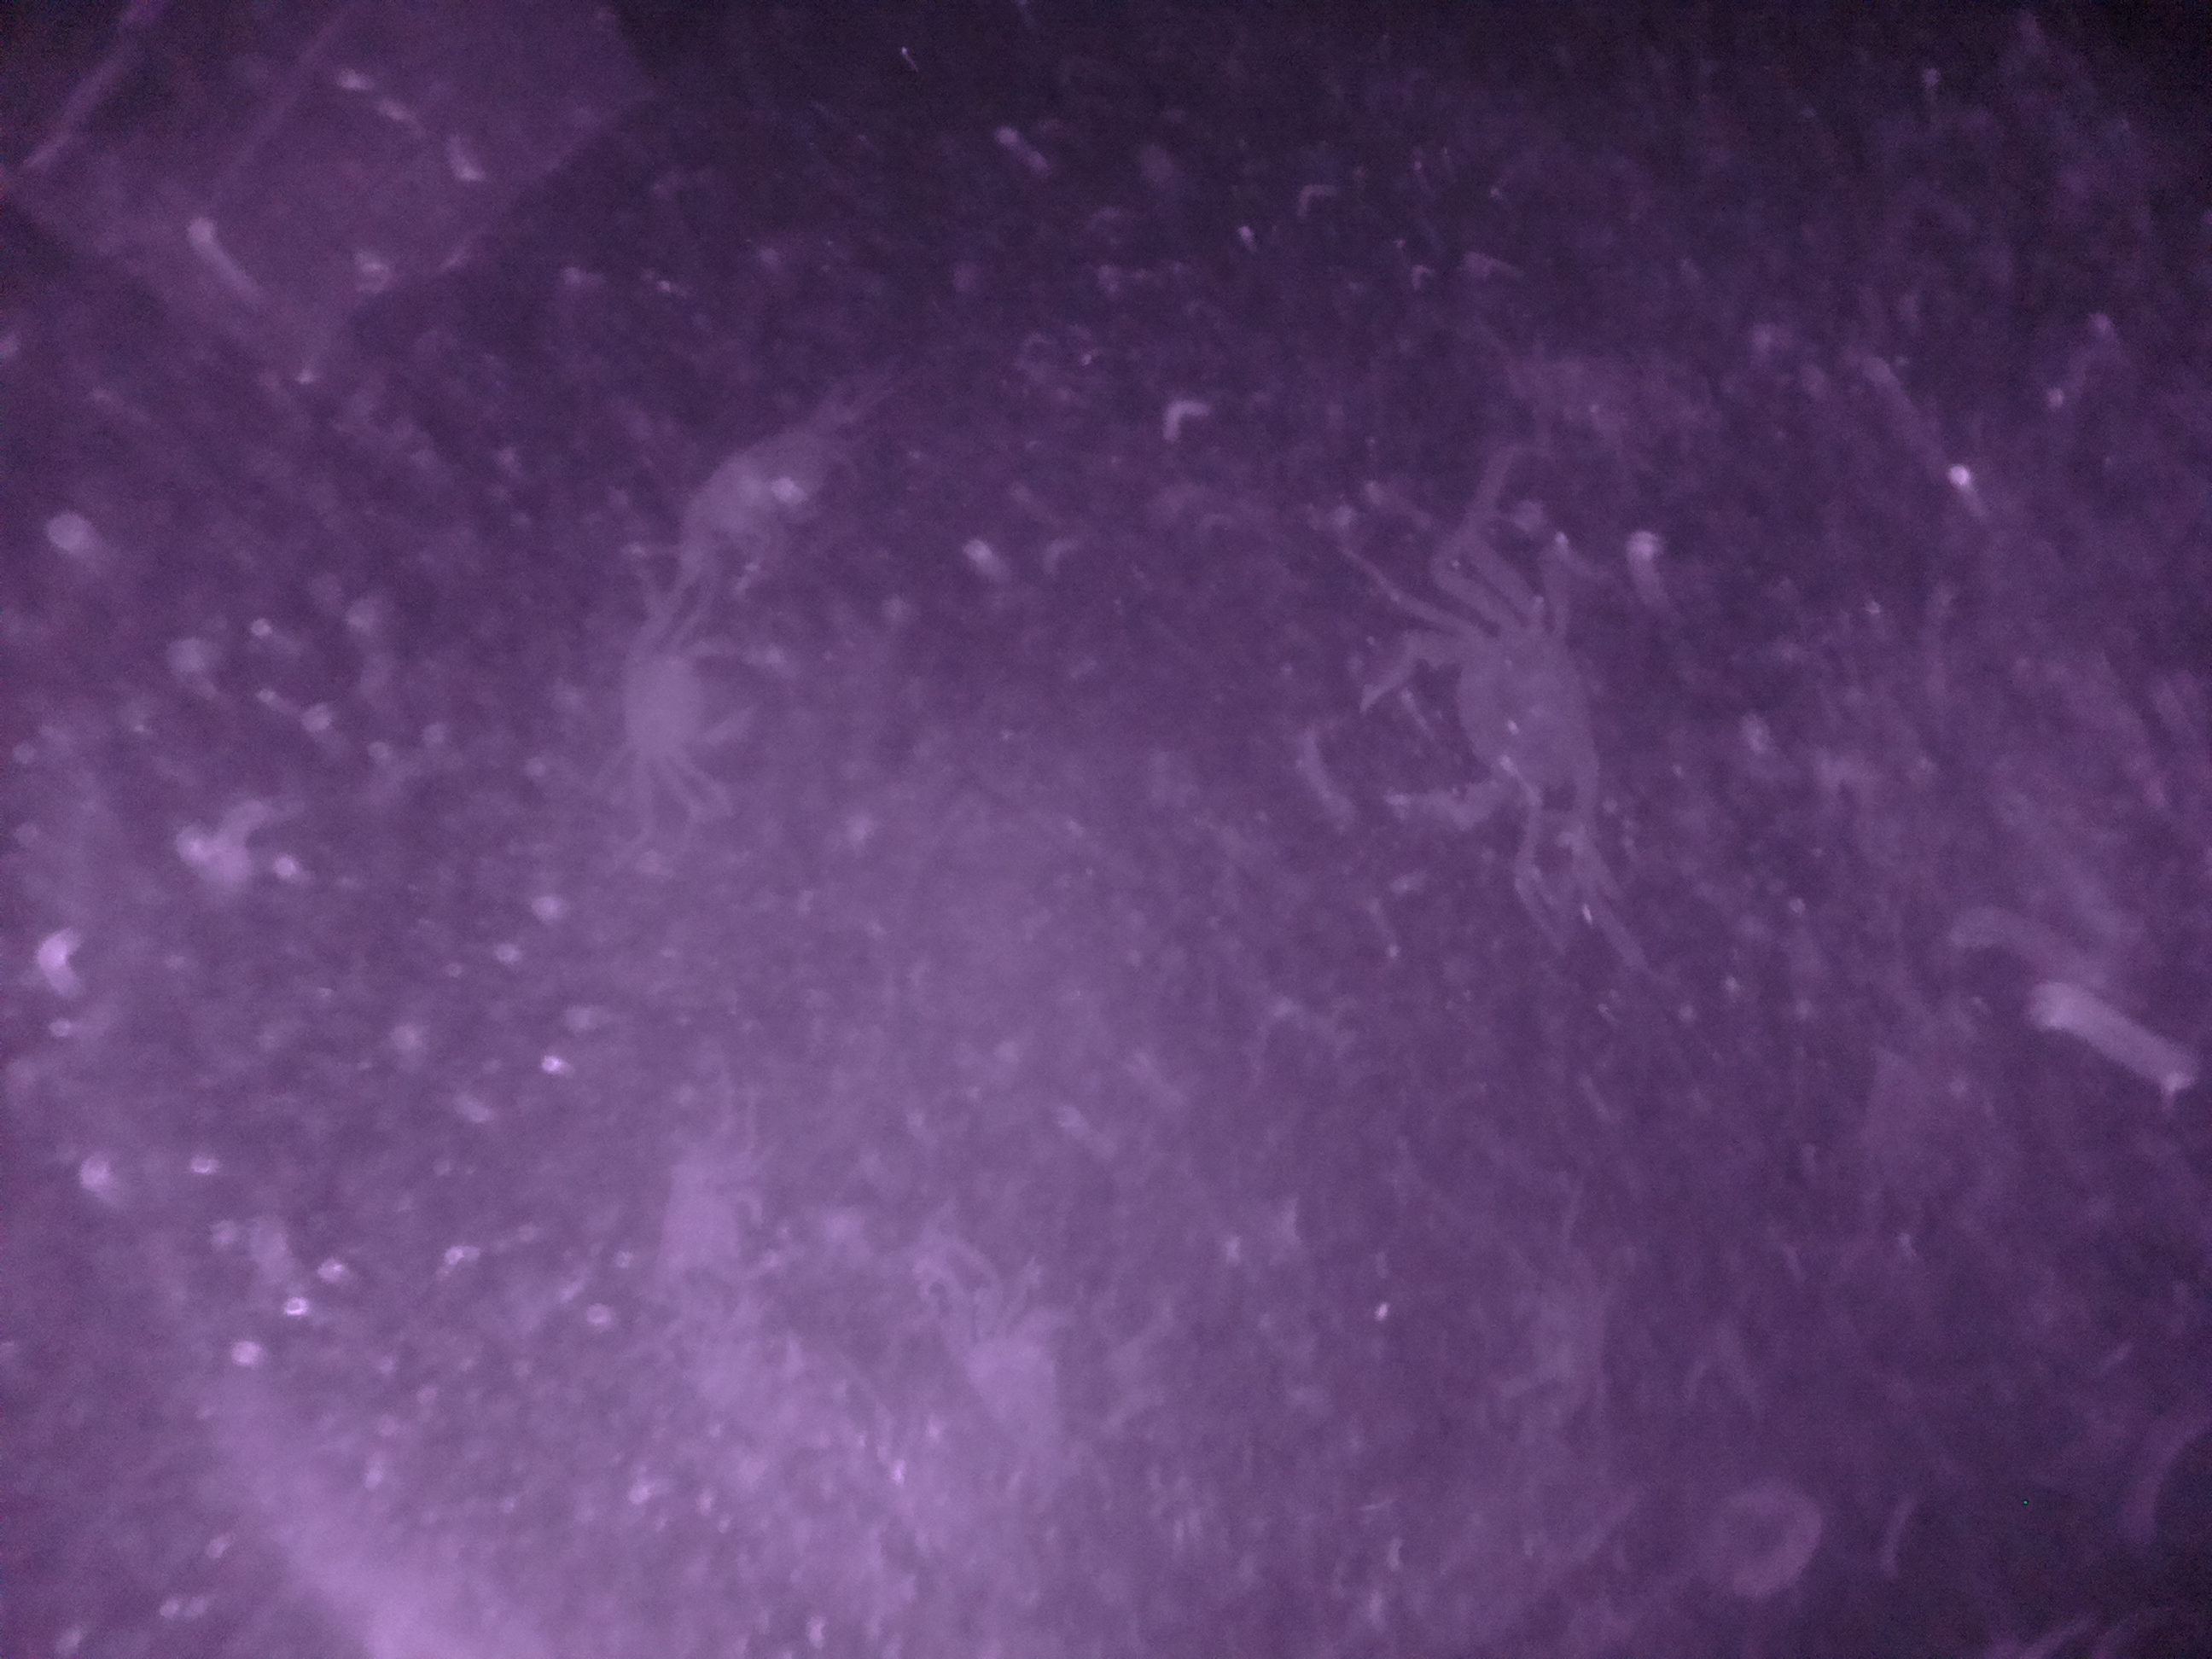Crab: (1322, 556, 1653, 847)
